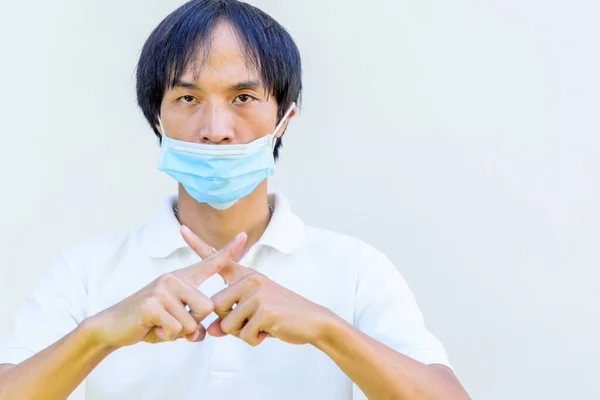nose_out: (140, 1, 300, 208)
